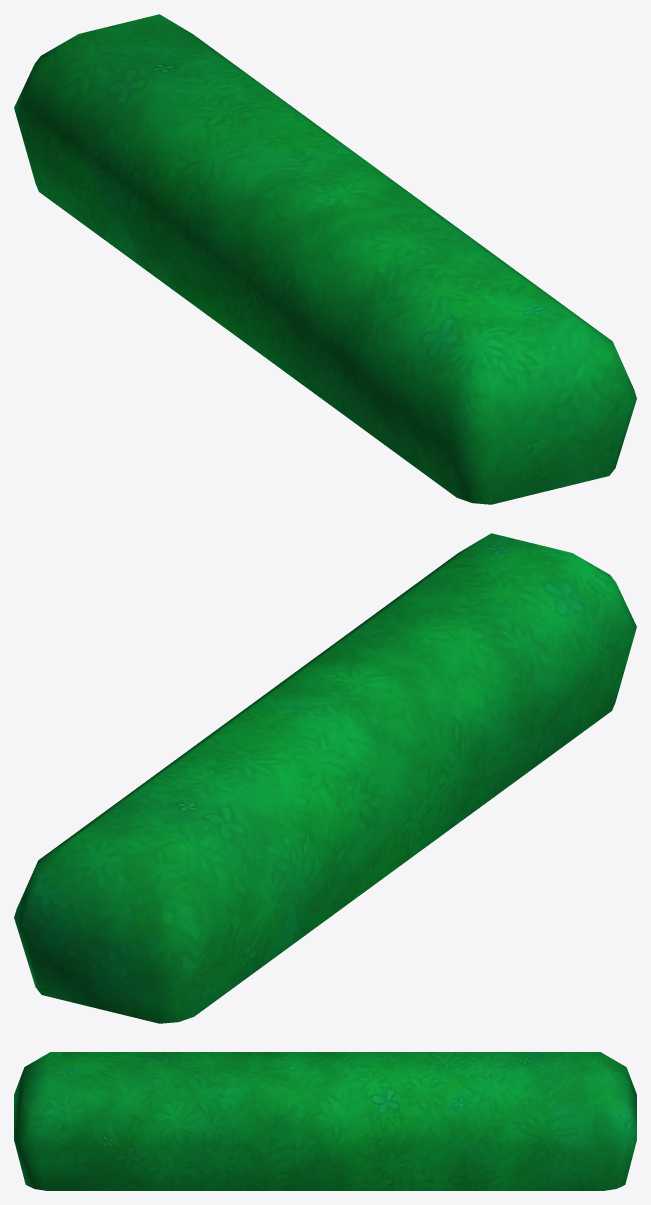
Rendered from Plant01_a04.FBX.
The picture shows the model from 3 angles, top to bottom: view 1: azimuth 30°, elevation 25°; view 2: azimuth 150°, elevation 25°; view 3: azimuth 270°, elevation 25°; orthographic projection. The views are drawn at different scales.
Parts seen in each view (by area): view 1: Plant01_a04; view 2: Plant01_a04; view 3: Plant01_a04.
Part boxes in pixels (x1=…): Plant01_a04: x1=14, y1=14, x2=636, y2=504; Plant01_a04: x1=14, y1=533, x2=636, y2=1023; Plant01_a04: x1=14, y1=1052, x2=636, y2=1190.
Size of the model in its own units: 138 by 108 by 607.
Materials: 1 (1 with a texture image).
